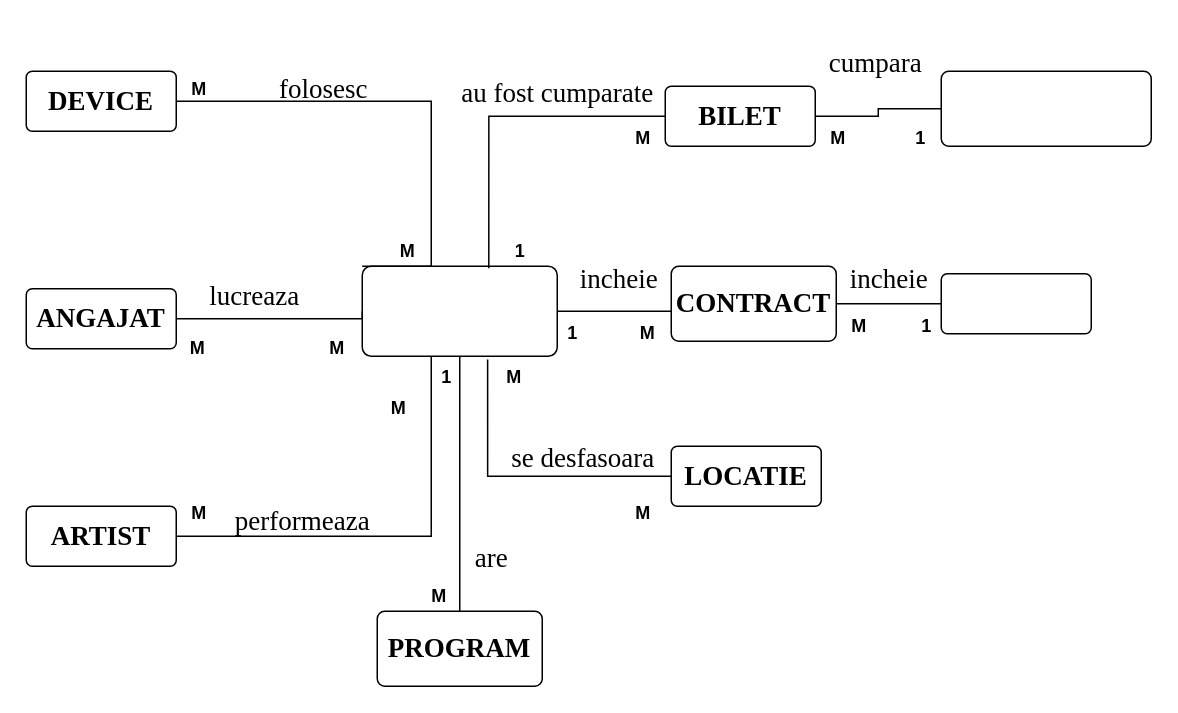
This 1178x713 diagram has some shape labels left out. Each missing label, with the centre of its shape:
PARTICIPANT: (x=1045, y=108)
SPECTACOL: (x=459, y=310)
SPONSOR: (x=1015, y=303)
